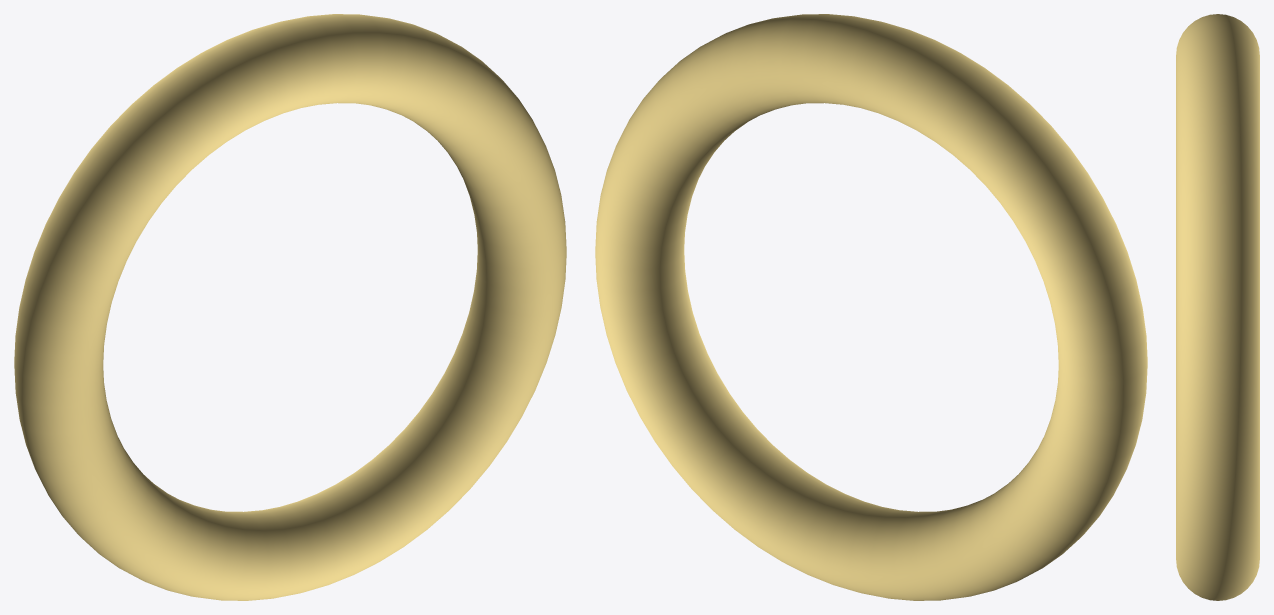
Rendered from test-bangle-plain.glb.
3 views of the same model, side by side, from view 1: azimuth 30°, elevation 25°; view 2: azimuth 150°, elevation 25°; view 3: azimuth 270°, elevation 25° (orthographic). The views are drawn at different scales.
Visible parts, largest first — view 1: Model; view 2: Model; view 3: Model.
Part boxes in pixels (x1,y1,x2,y2): Model: (14,14,566,600); Model: (595,14,1147,600); Model: (1176,14,1259,600).
Bounding box in the file's own units: 28 × 28 × 4.
